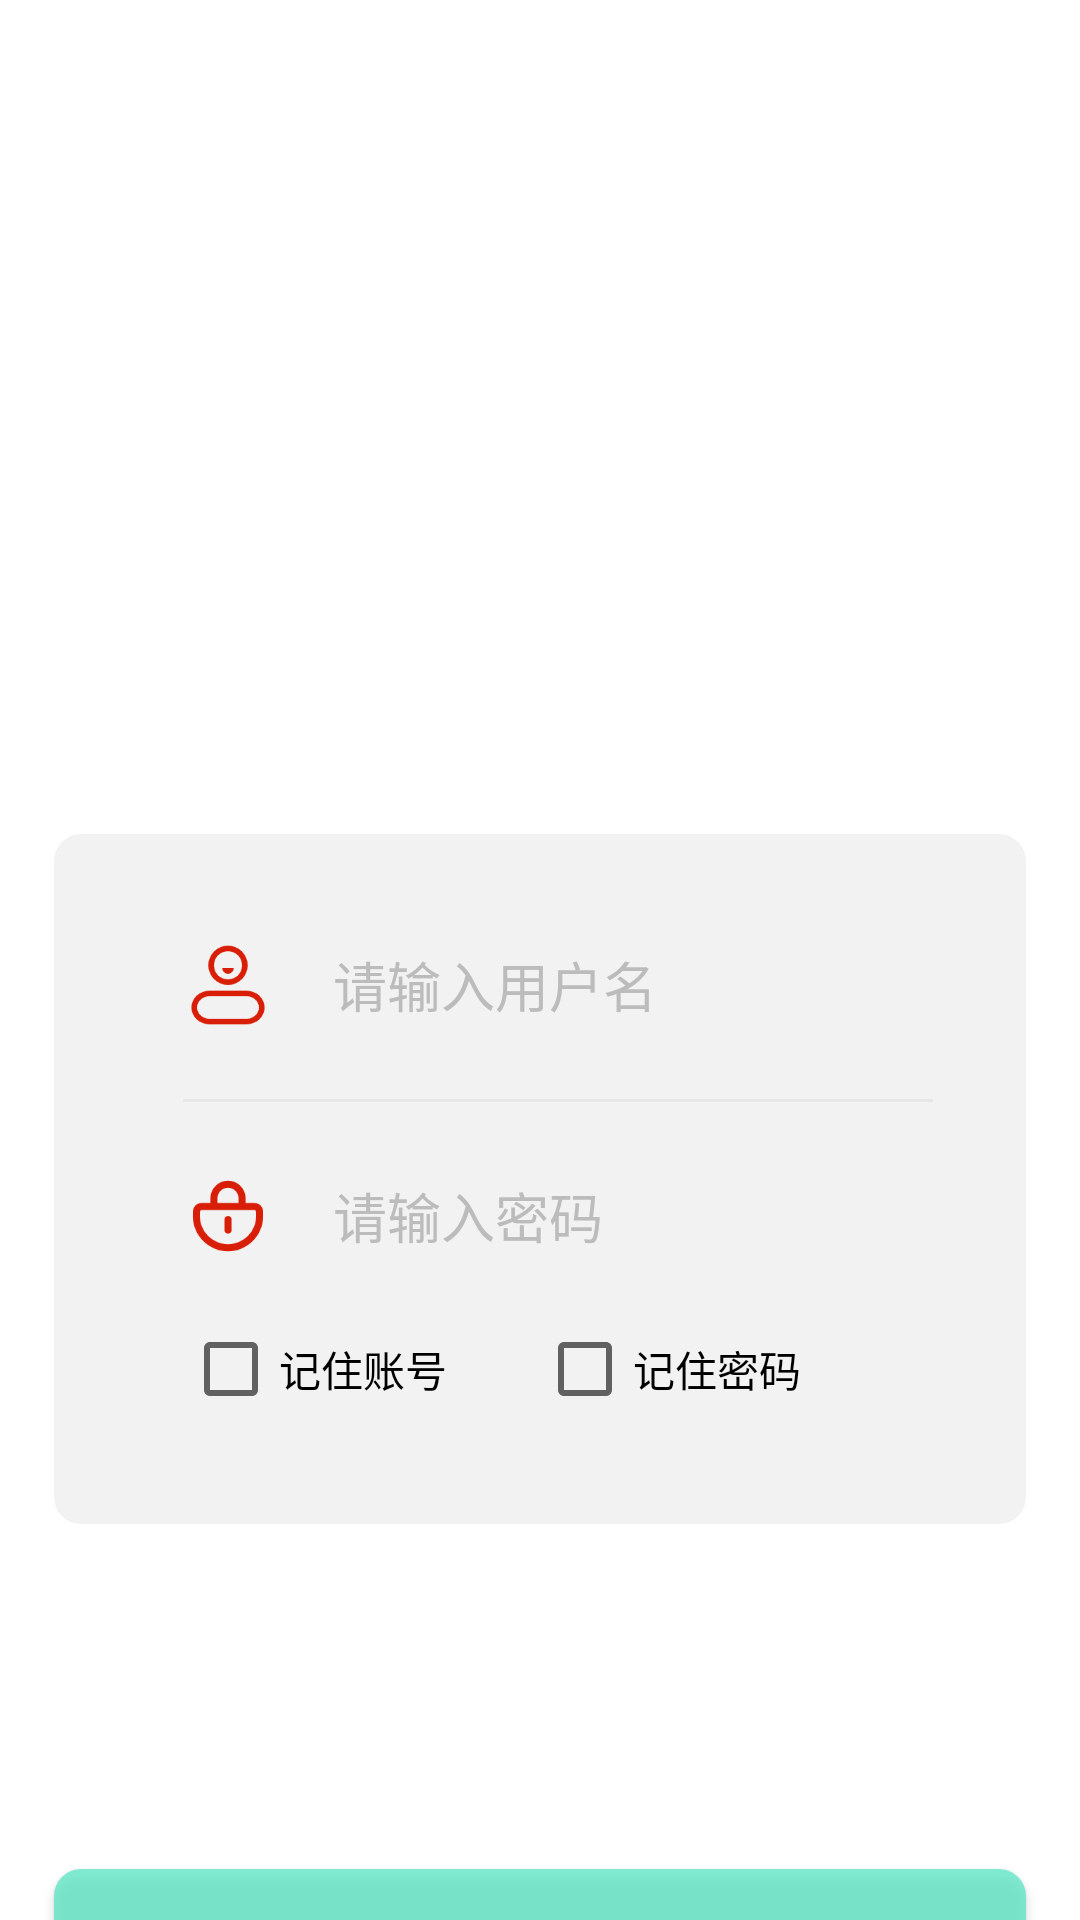

Icons on this 1080 × 1920 Android screen, each with its box as [x1,y1,x2,y2]:
account: [191,945,265,1025]
password: [193,1180,263,1252]
